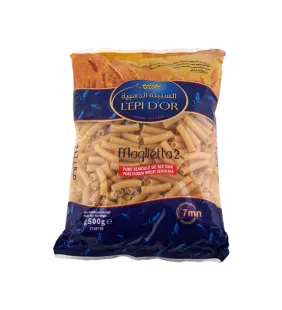L'EPI D'OR: (45, 36, 235, 269)
